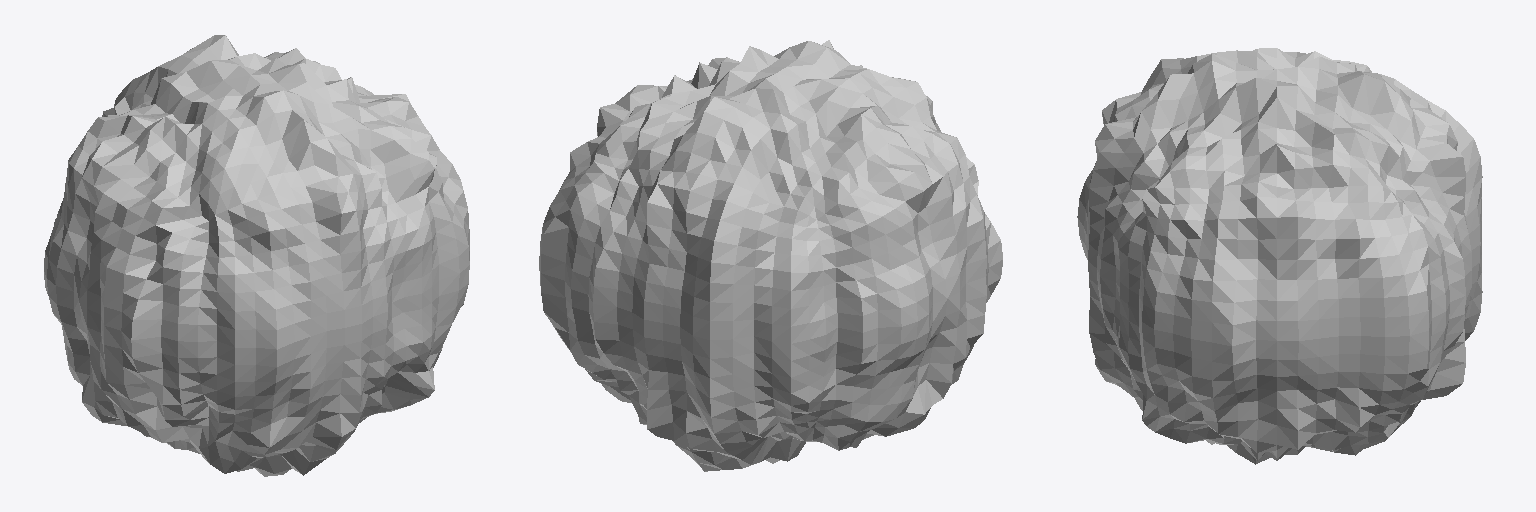
The model's file is asteroid76.obj.
3 renders of one model, left to right at view 1: azimuth 30°, elevation 25°; view 2: azimuth 150°, elevation 25°; view 3: azimuth 270°, elevation 25°, orthographic.
Visible parts, largest first — view 1: Cube_Cube.002; view 2: Cube_Cube.002; view 3: Cube_Cube.002.
Part boxes in pixels (bbox=[...]): Cube_Cube.002: bbox=[44, 35, 469, 476]; Cube_Cube.002: bbox=[539, 40, 1002, 471]; Cube_Cube.002: bbox=[1077, 48, 1482, 464].
Bounding box in the file's own units: 1.79 × 1.79 × 1.7.